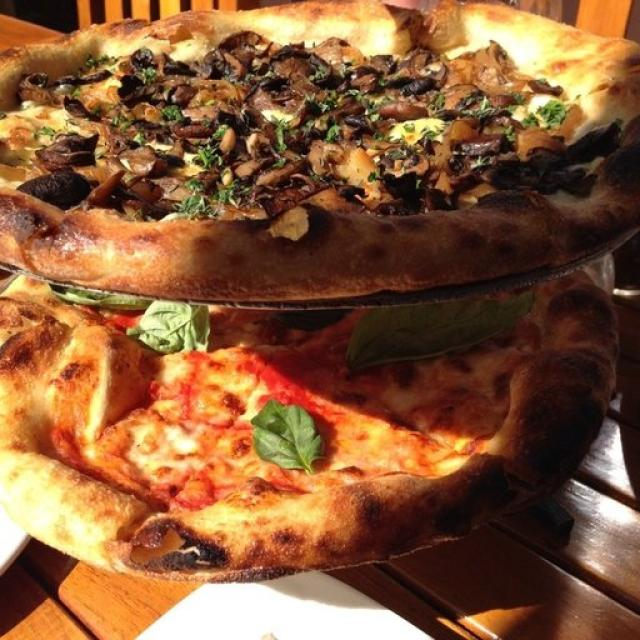Basil: (341, 296, 539, 376), (250, 402, 319, 472), (134, 300, 213, 354), (57, 294, 143, 309)
Mushrooms: (311, 147, 391, 213), (22, 74, 90, 116), (405, 171, 483, 206), (253, 61, 300, 118), (118, 144, 162, 197), (20, 172, 86, 207), (227, 163, 280, 204), (41, 132, 100, 164), (270, 209, 309, 246), (403, 48, 448, 78), (516, 129, 554, 162), (315, 103, 361, 127), (199, 56, 239, 81), (381, 103, 429, 123), (445, 83, 473, 113), (349, 66, 377, 89), (126, 76, 147, 105), (138, 105, 164, 127), (220, 133, 240, 160), (171, 123, 211, 136)
Pizza: (0, 269, 618, 584), (0, 0, 640, 302)
